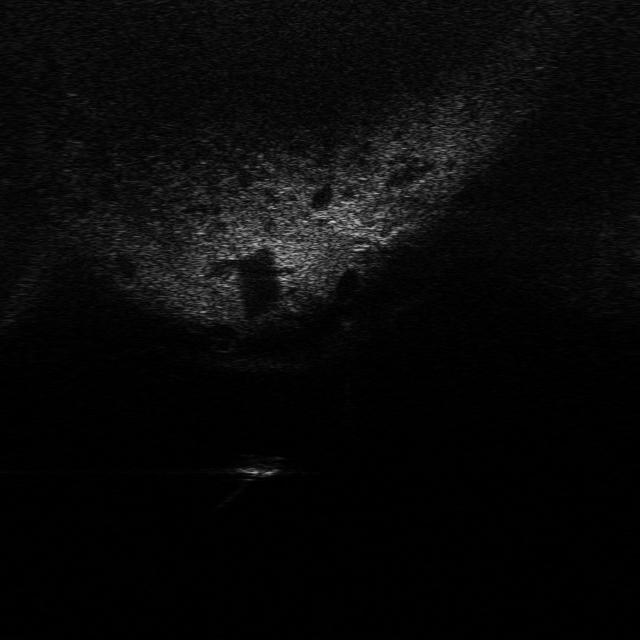ball: (332, 298, 366, 326)
cube: (222, 449, 288, 479)
